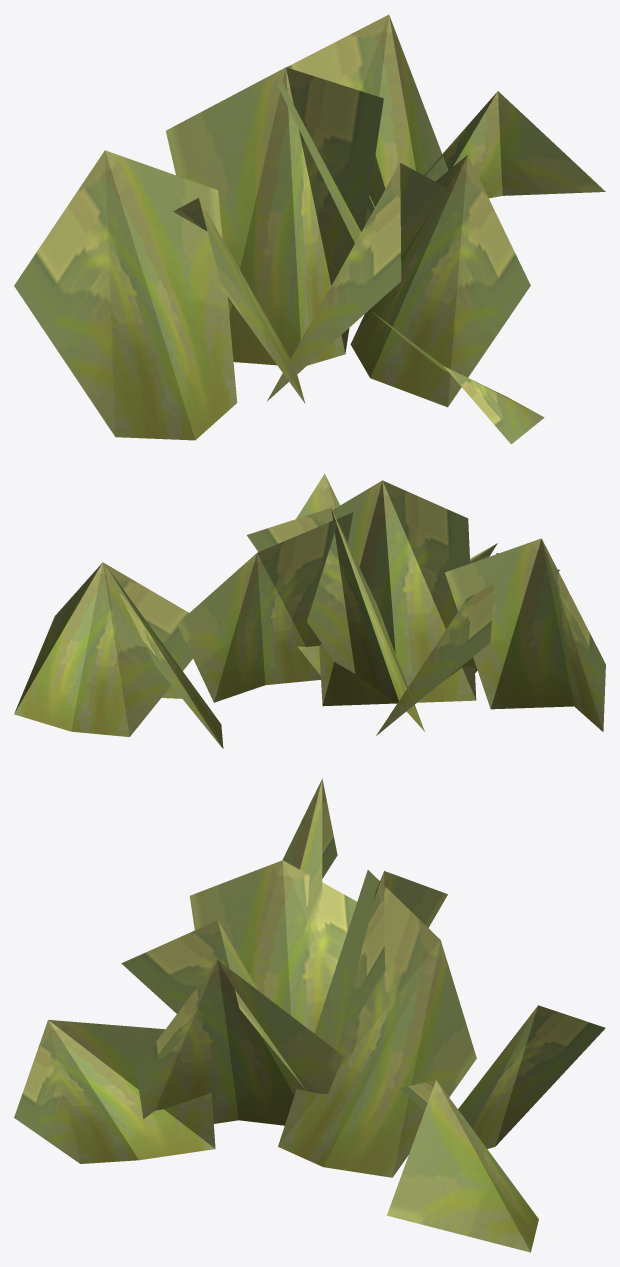
The model's file is Z01_cao_02.FBX.
3 views of the same model, one above another, from view 1: azimuth 30°, elevation 25°; view 2: azimuth 150°, elevation 25°; view 3: azimuth 270°, elevation 25° (orthographic). The views are drawn at different scales.
Parts seen in each view (by area): view 1: 对象110; view 2: 对象110; view 3: 对象110.
Boxes of the visible parts, bbox=[...] form: 对象110: bbox=[14, 14, 605, 444]; 对象110: bbox=[14, 473, 605, 748]; 对象110: bbox=[14, 779, 605, 1252].
Size of the model in its own units: 107 by 42.71 by 92.89.
